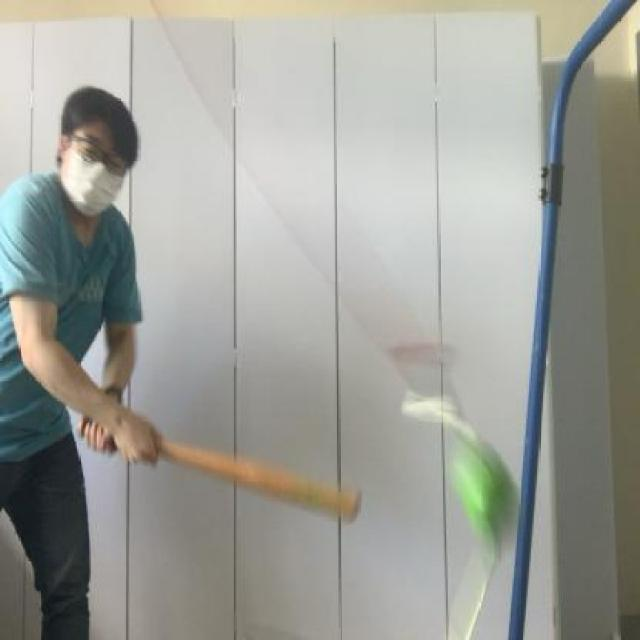baseball: (434, 432, 518, 554)
